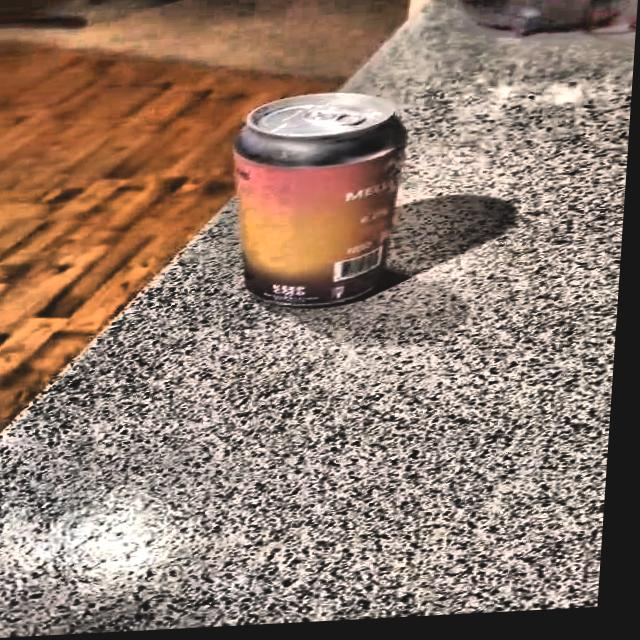can: (225, 80, 416, 320)
